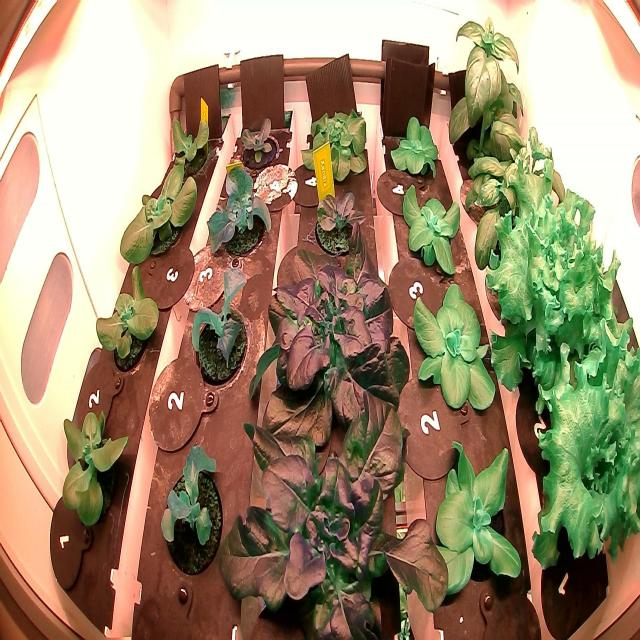young: (420, 436, 526, 609), (408, 276, 504, 427), (105, 144, 202, 278), (55, 395, 138, 546), (88, 256, 165, 386), (393, 174, 468, 284), (304, 168, 369, 268), (159, 96, 216, 196), (387, 102, 447, 188), (232, 108, 288, 181)
